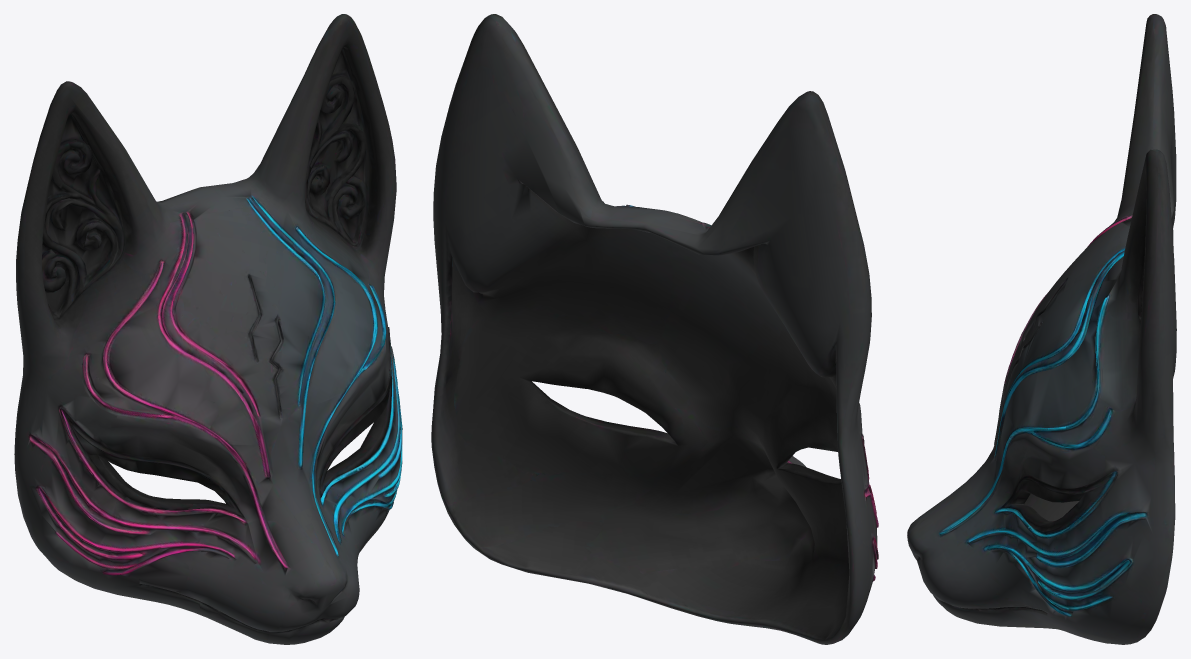
The model's file is kitsune.glb.
The picture shows the model from 3 angles, left to right: view 1: azimuth 30°, elevation 25°; view 2: azimuth 150°, elevation 25°; view 3: azimuth 270°, elevation 25°; orthographic projection. The views are drawn at different scales.
Parts seen in each view (by area): view 1: node_0; view 2: node_0; view 3: node_0.
Boxes of the visible parts, x1,y1,x2,y2 form: node_0: (14,14,402,644); node_0: (431,14,878,644); node_0: (907,14,1176,644).
Bounding box in the file's own units: 0.7416 × 0.9928 × 0.4551.
1 material, 1 textured.
